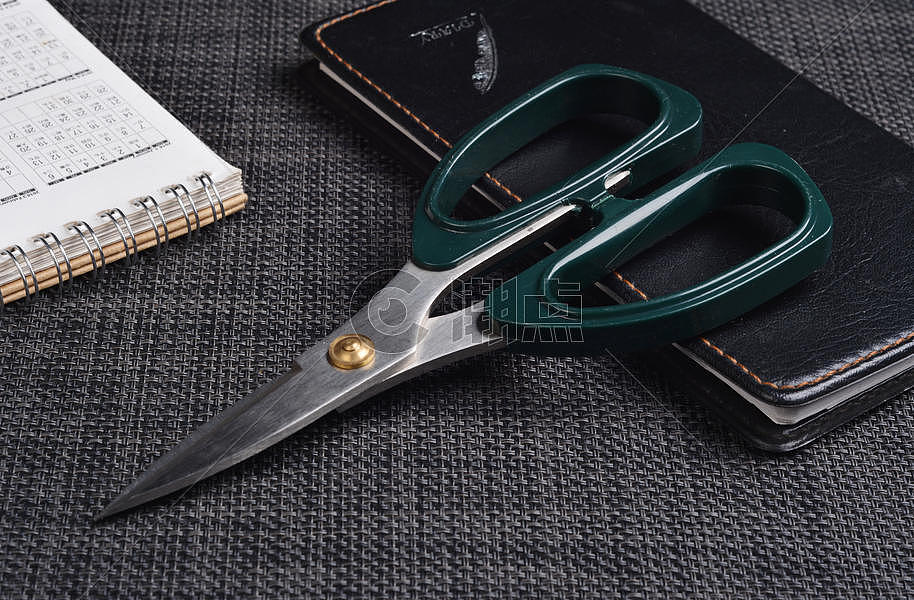scissors: (84, 57, 840, 545)
